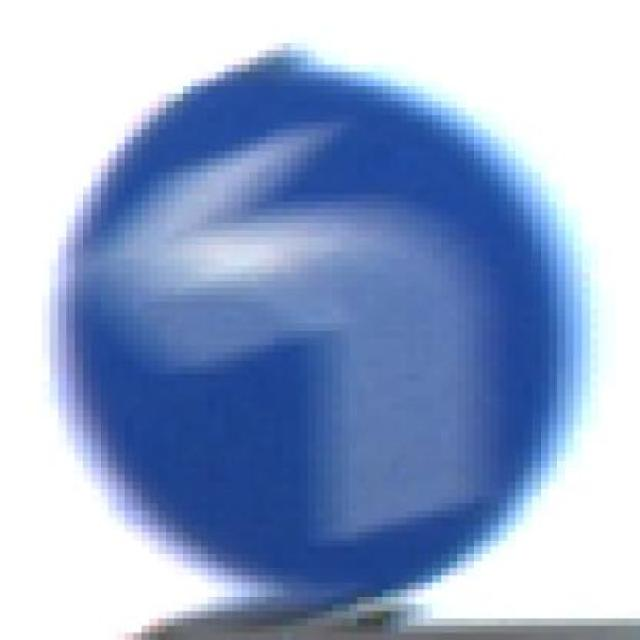Turn left ahead: (49, 36, 574, 604)
